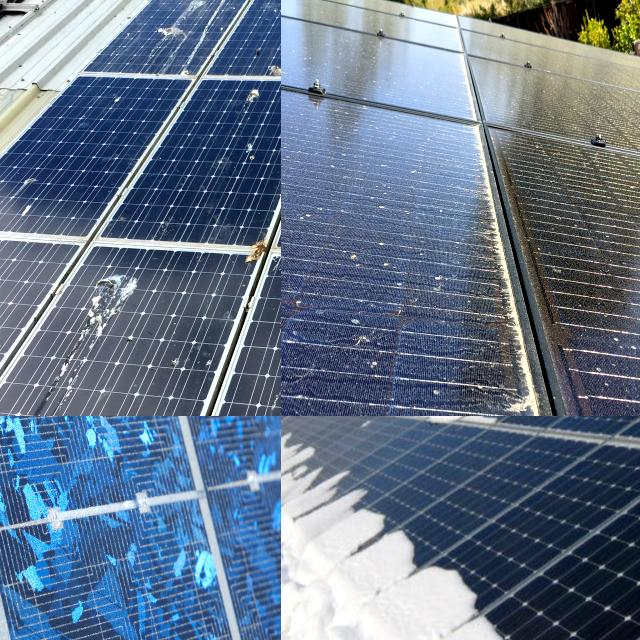bird: (86, 240, 158, 340), (148, 0, 231, 67), (237, 233, 281, 298)
crack: (0, 416, 281, 640)
dust: (465, 107, 594, 416), (281, 277, 423, 416), (281, 139, 403, 247), (281, 19, 439, 74)
panel: (332, 546, 470, 640), (281, 445, 343, 562), (415, 556, 483, 632), (281, 426, 338, 514), (405, 416, 507, 460), (380, 514, 425, 578), (340, 481, 384, 538), (493, 614, 579, 640), (291, 416, 349, 438), (349, 416, 397, 441), (281, 416, 315, 440), (281, 416, 309, 437)
